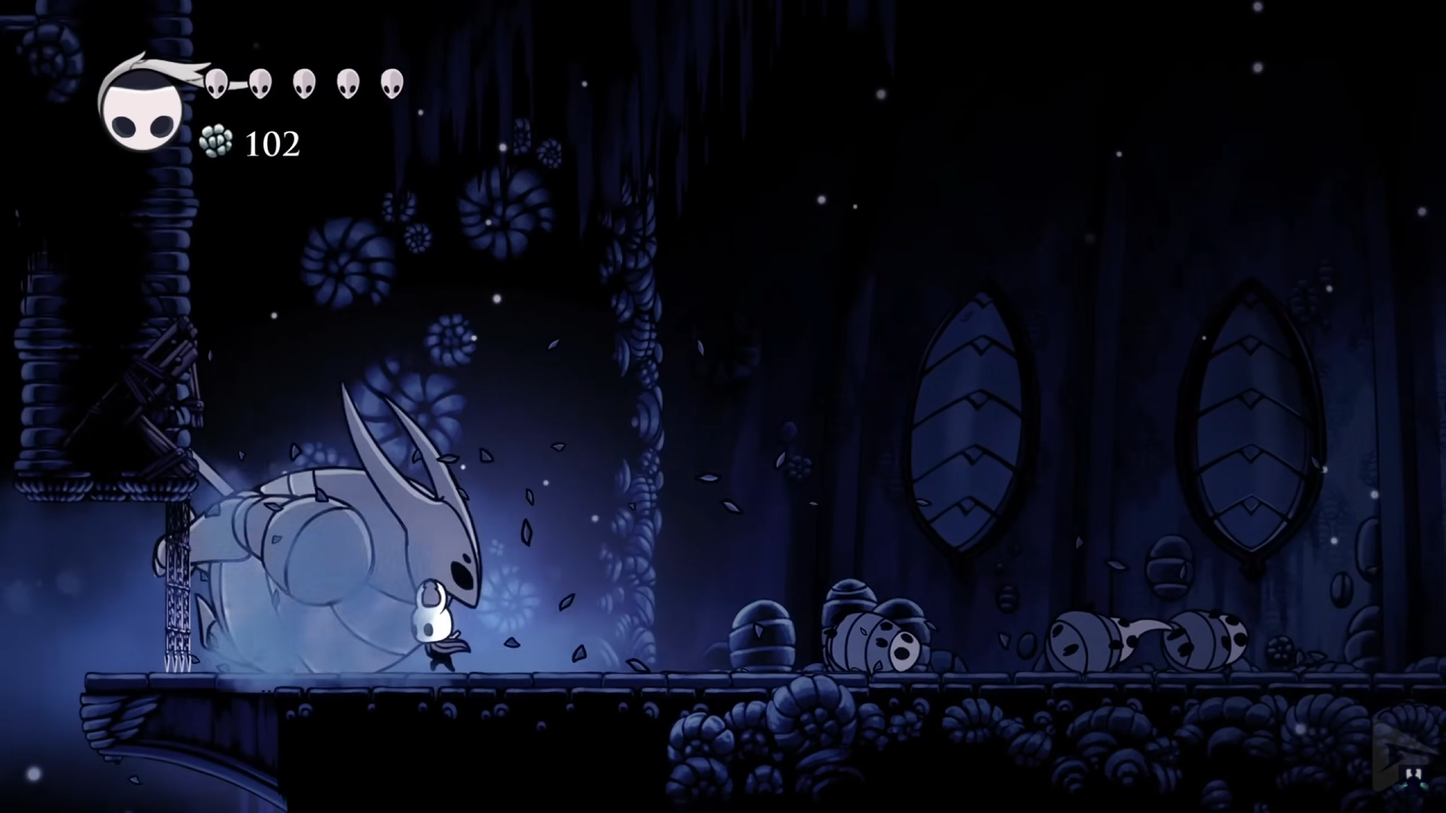HK: (407, 576, 468, 673)
